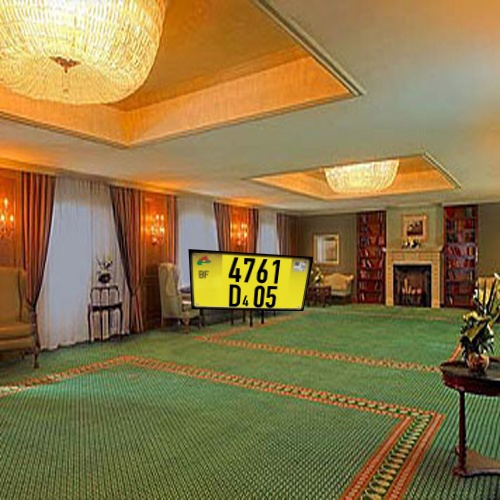plate: (181, 240, 321, 331)
